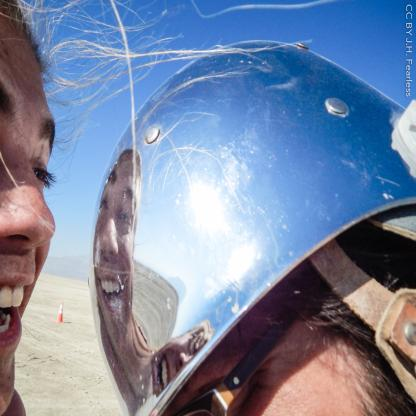Helmet: (88, 38, 416, 416)
